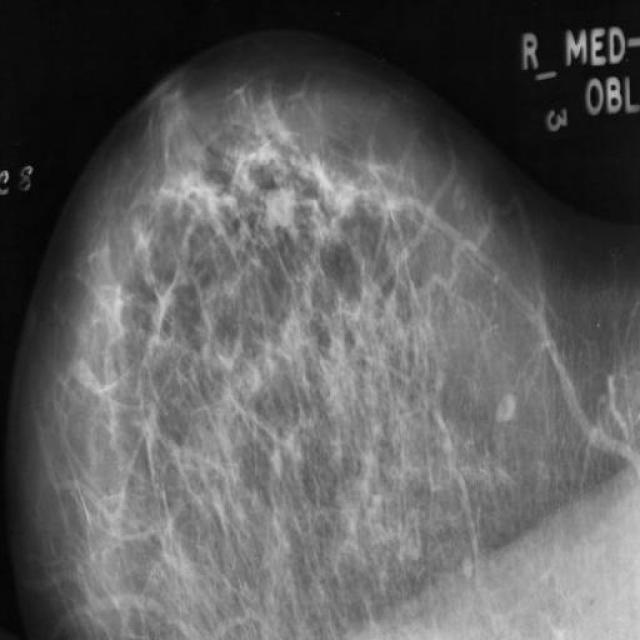cancer: (208, 84, 339, 214)
